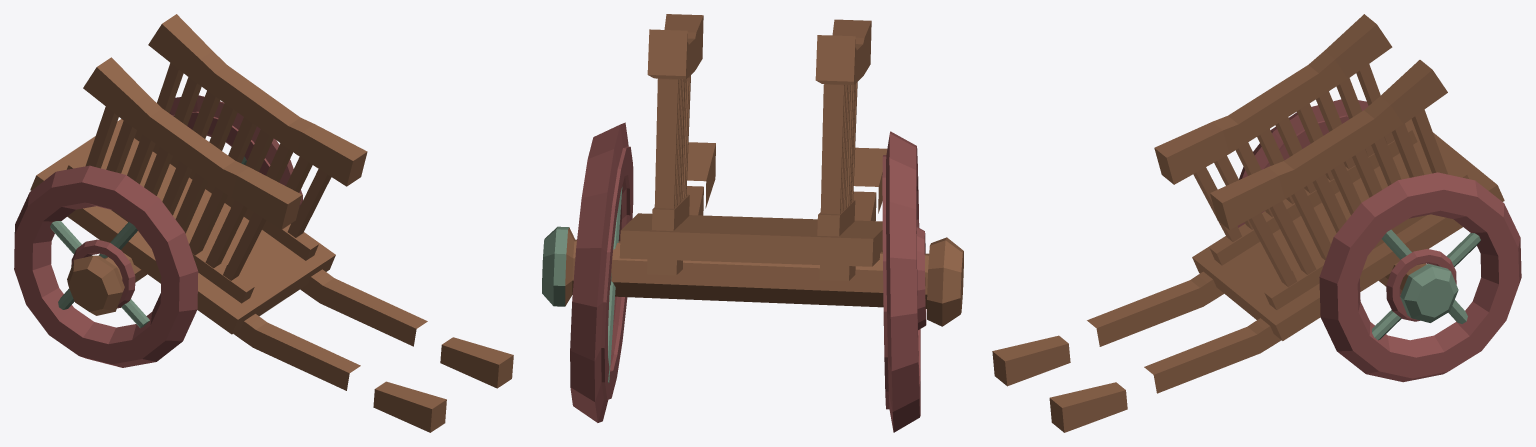
The model's file is free-stone-cart.glb.
3 renders of one model, left to right at view 1: azimuth 30°, elevation 25°; view 2: azimuth 150°, elevation 25°; view 3: azimuth 270°, elevation 25°, orthographic. The views are drawn at different scales.
Parts seen in each view (by area): view 1: Cylinder001_Woods_0, Torus_Wheels_0, Cylinder002_Black_0; view 2: Cylinder001_Woods_0, Torus_Wheels_0, Cylinder002_Black_0; view 3: Cylinder001_Woods_0, Torus_Wheels_0, Cylinder002_Black_0.
Part boxes in pixels (box(x1,y1,x2,y2)): Cylinder001_Woods_0: box(30, 14, 513, 432); Torus_Wheels_0: box(14, 95, 302, 367); Cylinder002_Black_0: box(50, 156, 246, 328); Cylinder001_Woods_0: box(565, 14, 963, 326); Torus_Wheels_0: box(570, 122, 926, 432); Cylinder002_Black_0: box(542, 187, 622, 382); Cylinder001_Woods_0: box(992, 14, 1504, 432); Torus_Wheels_0: box(1237, 99, 1521, 382); Cylinder002_Black_0: box(1372, 229, 1480, 340).
Bounding box in the file's own units: 2.67 × 2.15 × 3.53.
